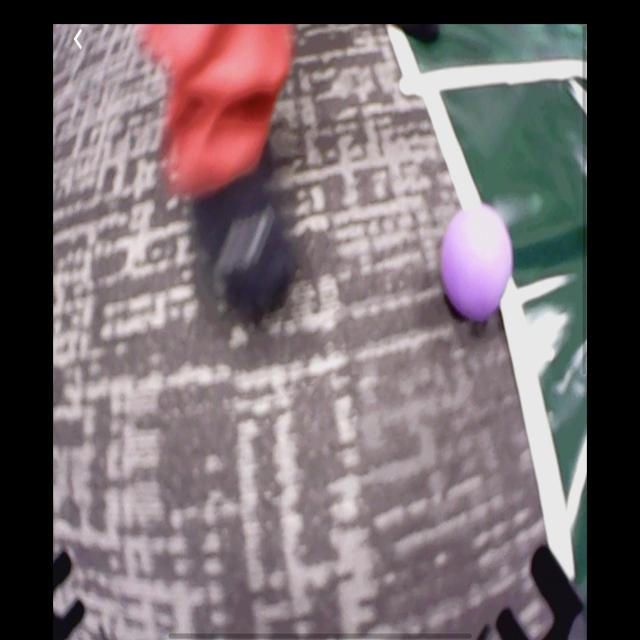ball: (440, 206, 517, 323)
